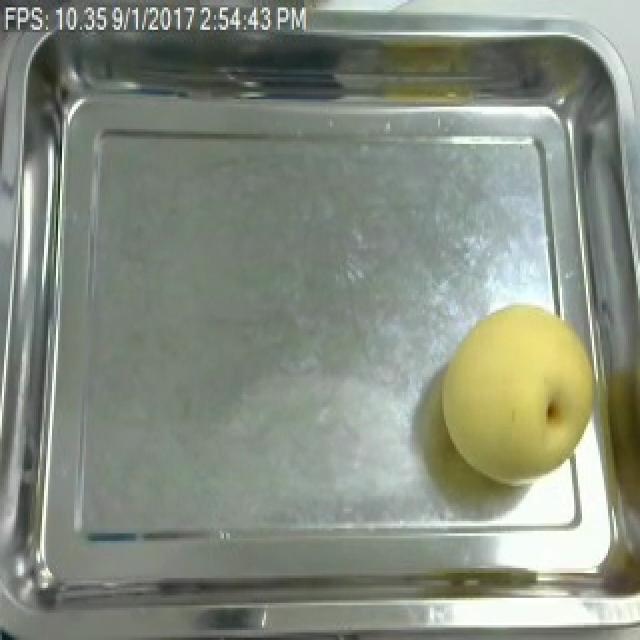Fruit: (428, 293, 610, 491)
